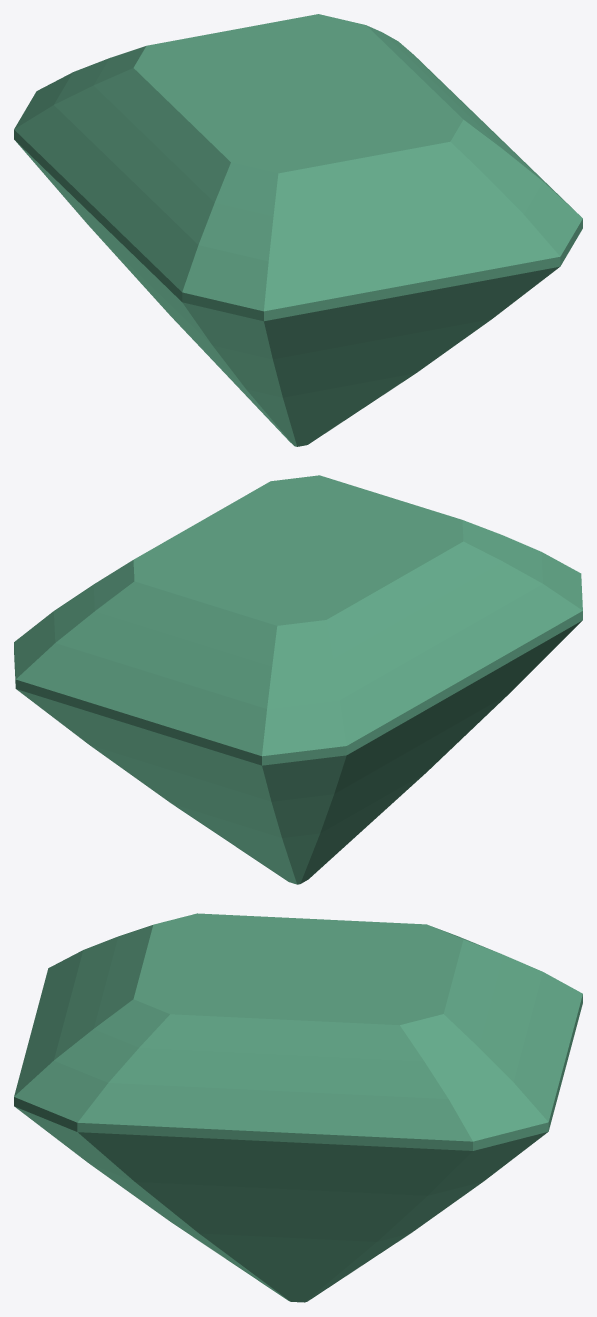
The model's file is jewelry.glb.
3 renders of one model, top to bottom at view 1: azimuth 30°, elevation 25°; view 2: azimuth 150°, elevation 25°; view 3: azimuth 270°, elevation 25°, orthographic. The views are drawn at different scales.
Parts seen in each view (by area): view 1: Gemstone Tourmaline; view 2: Gemstone Tourmaline; view 3: Gemstone Tourmaline.
Part boxes in pixels (bbox=[...]): Gemstone Tourmaline: bbox=[14, 14, 582, 446]; Gemstone Tourmaline: bbox=[14, 475, 582, 884]; Gemstone Tourmaline: bbox=[14, 913, 582, 1302].
Bounding box in the file's own units: 2.2 × 1.76 × 2.75.
